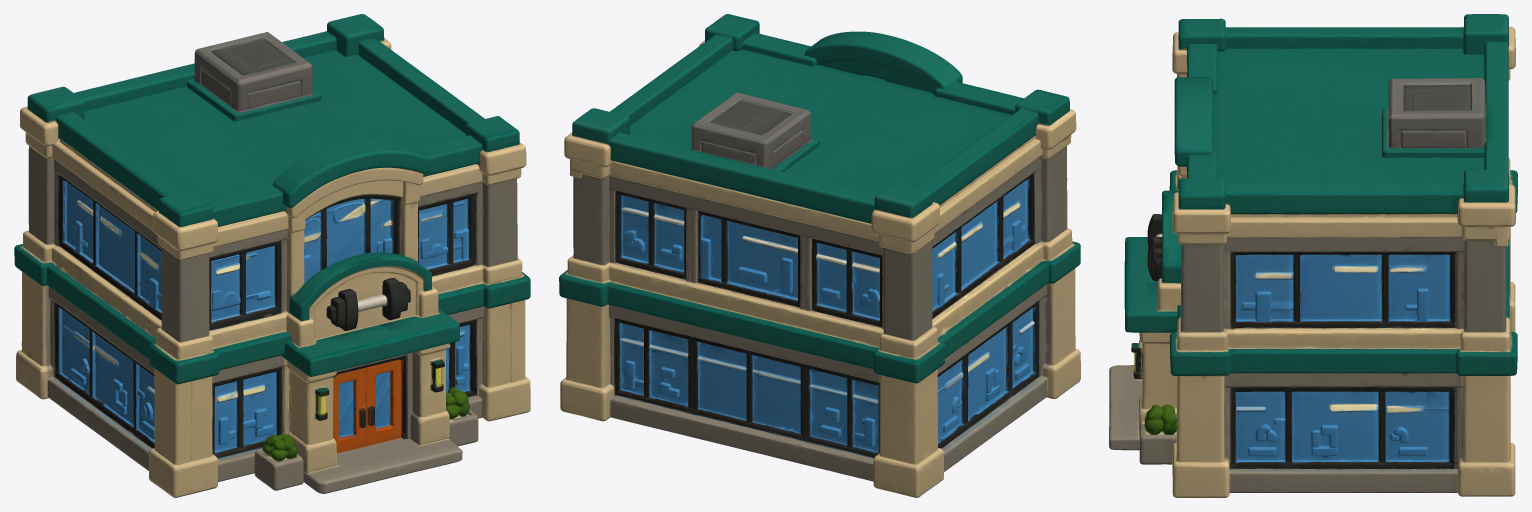
Rendered from Gym.fbx.
3 views of the same model, side by side, from view 1: azimuth 30°, elevation 25°; view 2: azimuth 150°, elevation 25°; view 3: azimuth 270°, elevation 25° (orthographic). The views are drawn at different scales.
Visible parts, largest first — view 1: tripo_node_25ed71c4-6690-4b45-af1f-a17015a374cb; view 2: tripo_node_25ed71c4-6690-4b45-af1f-a17015a374cb; view 3: tripo_node_25ed71c4-6690-4b45-af1f-a17015a374cb.
Boxes of the visible parts, box(x1,y1,x2,y2) form: tripo_node_25ed71c4-6690-4b45-af1f-a17015a374cb: box(14, 14, 530, 497); tripo_node_25ed71c4-6690-4b45-af1f-a17015a374cb: box(559, 14, 1080, 497); tripo_node_25ed71c4-6690-4b45-af1f-a17015a374cb: box(1109, 14, 1517, 497).
Bounding box in the file's own units: 97.99 × 80.17 × 90.97.
Materials: 1 (1 with a texture image).
